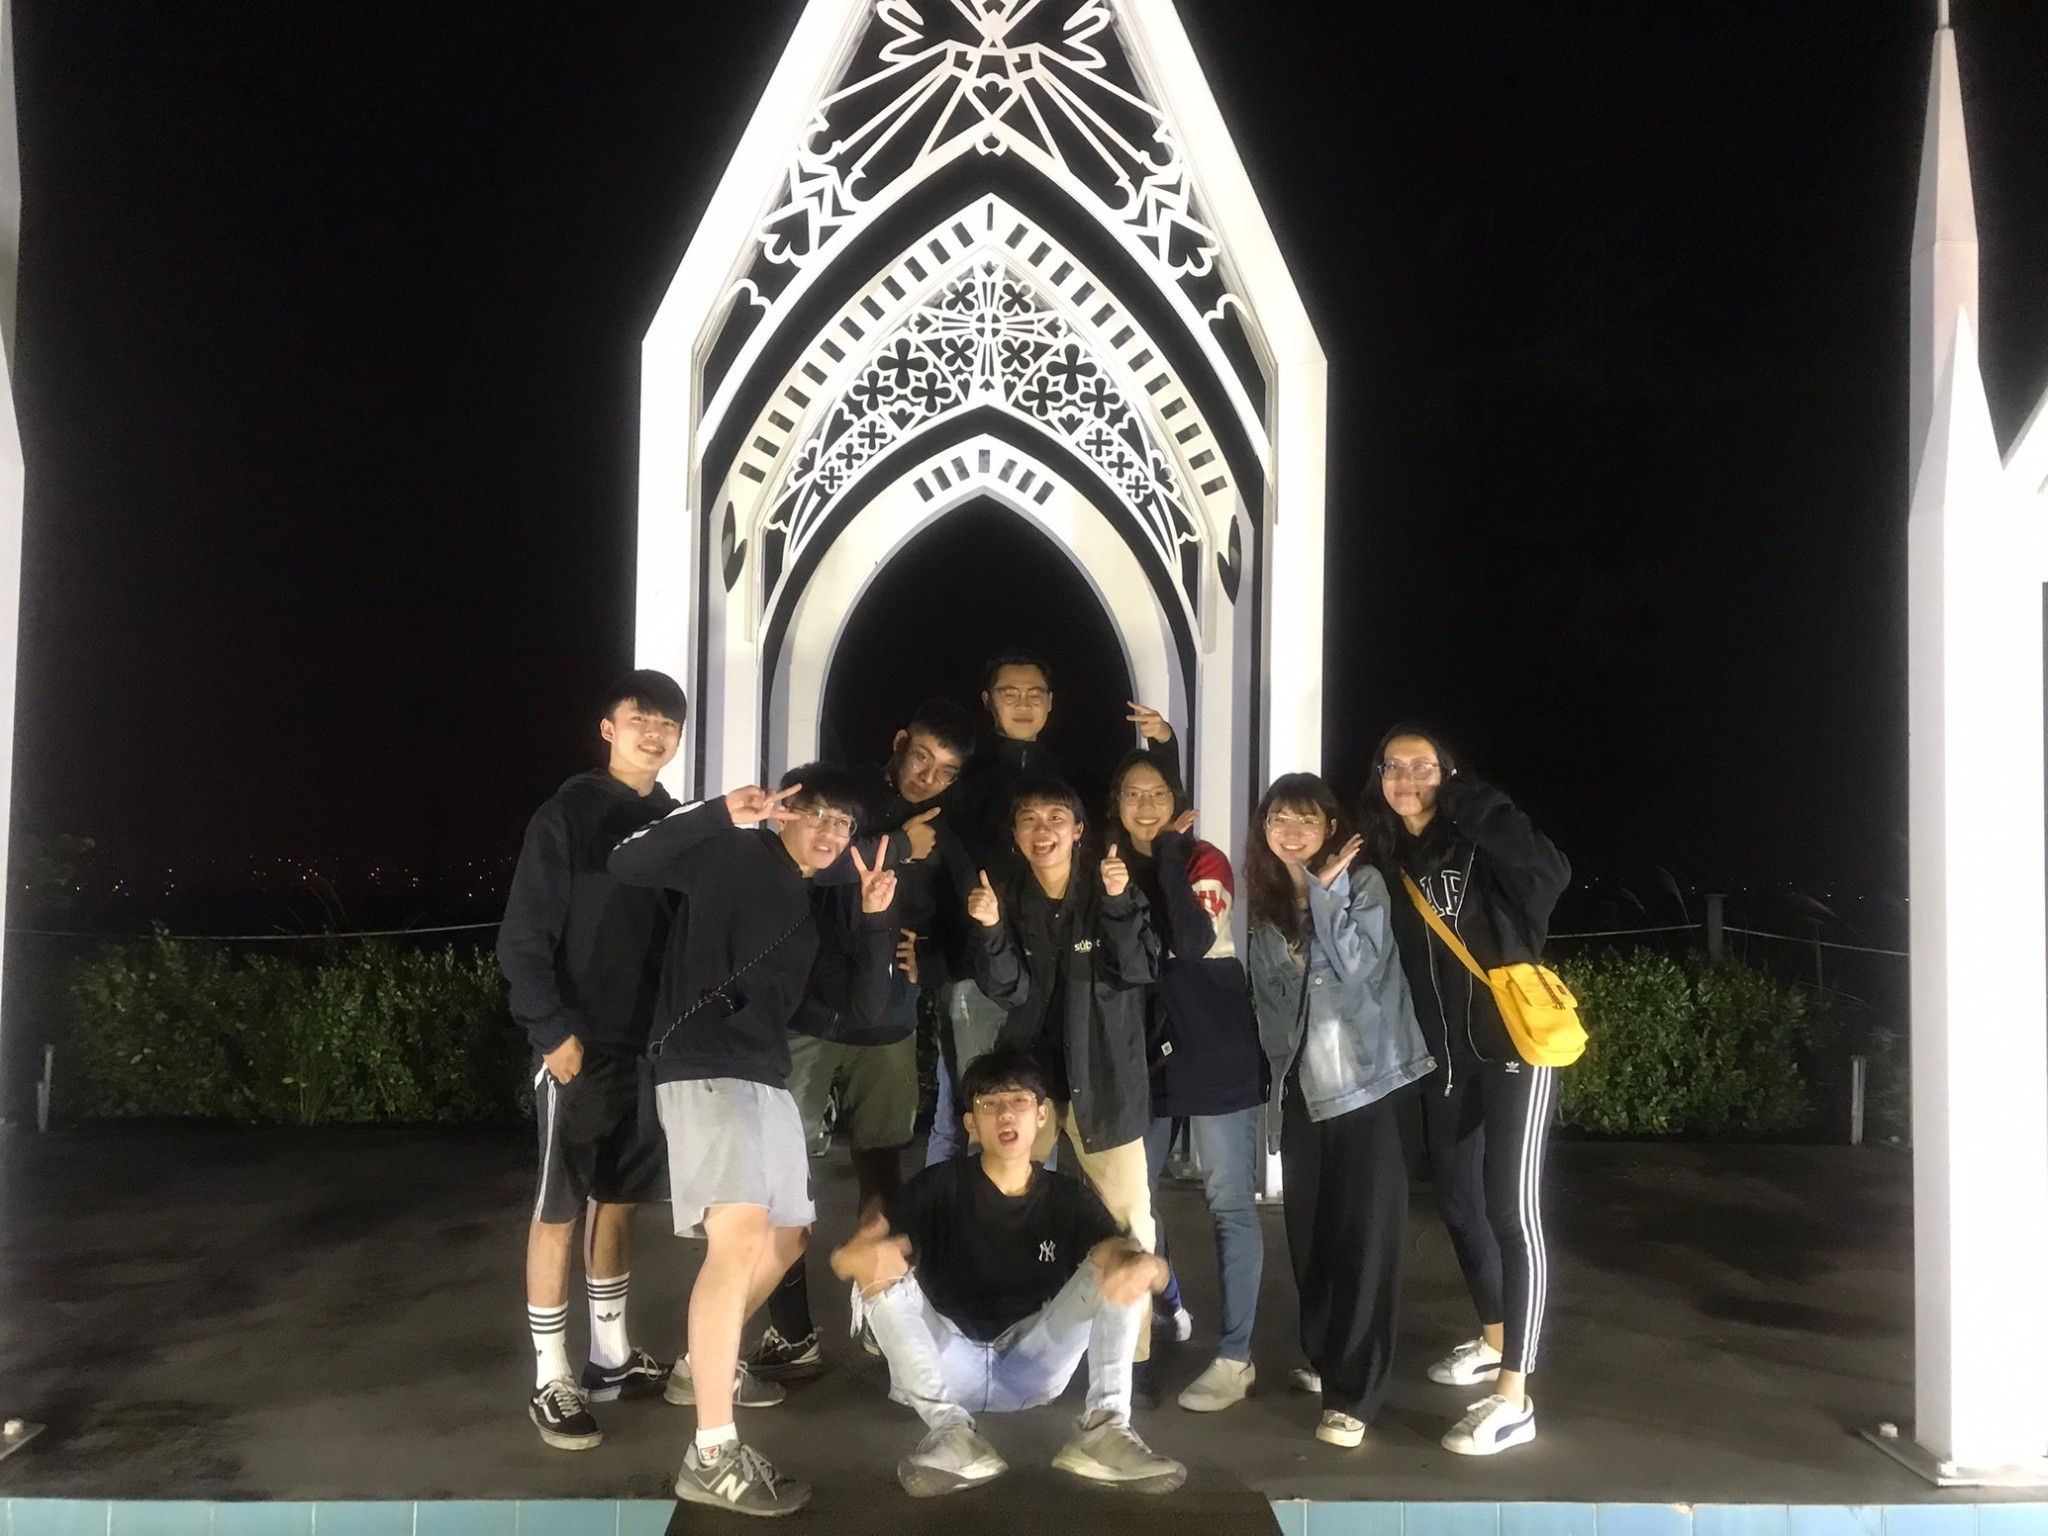people: (881, 1072, 1184, 1496), (1378, 734, 1543, 1443), (1102, 766, 1278, 1410), (1237, 778, 1396, 1452), (540, 675, 675, 1440), (681, 781, 816, 1513), (987, 810, 1137, 1346), (972, 663, 1122, 1163), (831, 722, 978, 1208)
